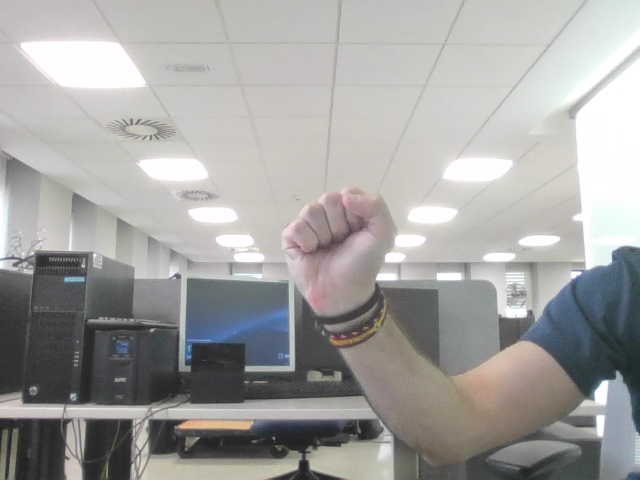Puño: (298, 194, 379, 270)
